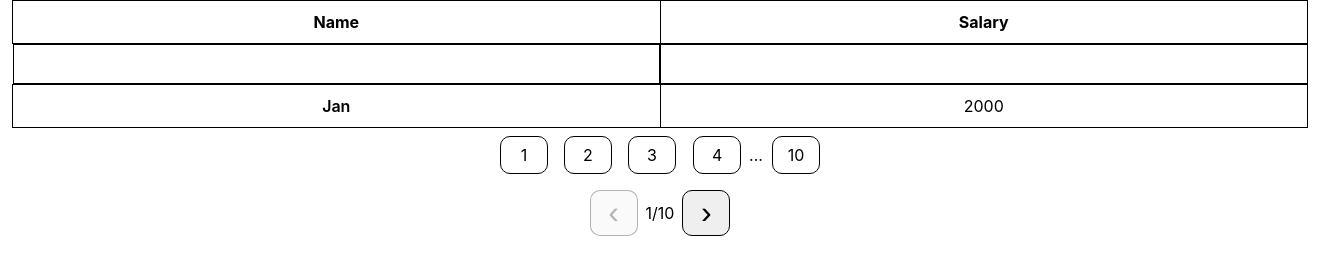
TableSdk pagination › filter changes page to 1
Click the list item with test id "2/pageNumber/test/false" at {"x": 588, "y": 155}, box [564,136,612,174]
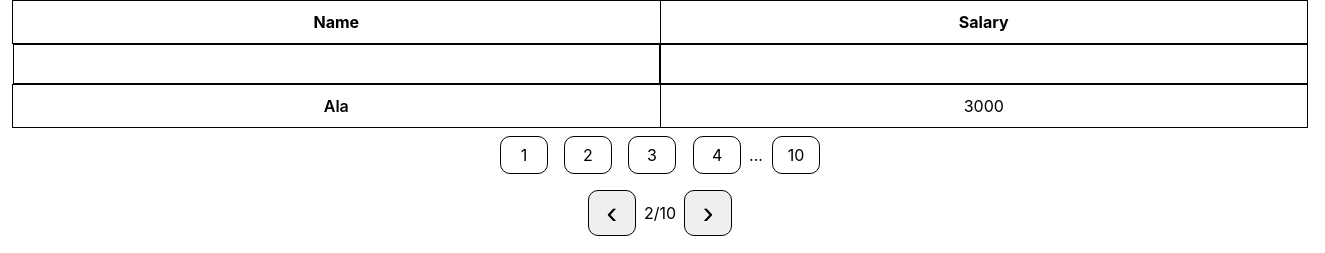
Check: the text "Ala" is shown, box [12,84,660,128]
Type "j" into the field with test id "name/Input/testid" at {"x": 336, "y": 64}, box [12,44,660,84]
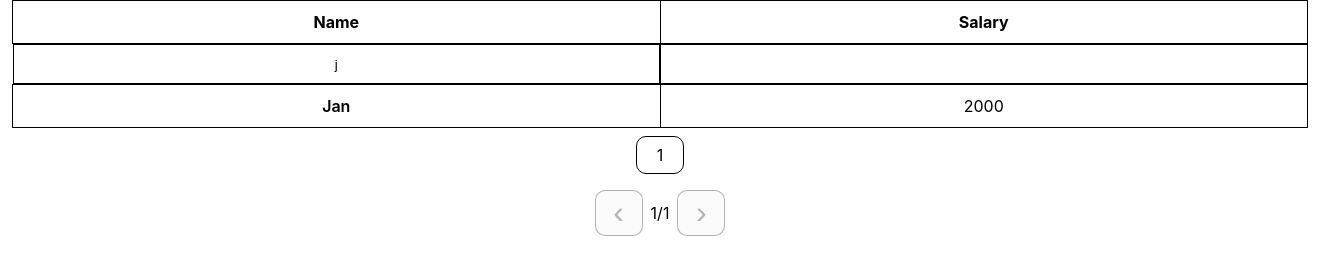
Check: the list item with test id "1/pageNumber/test/true" is shown, box [636,136,684,174]
Check: the list item with test id "2/pageNumber/test/true" is gone
